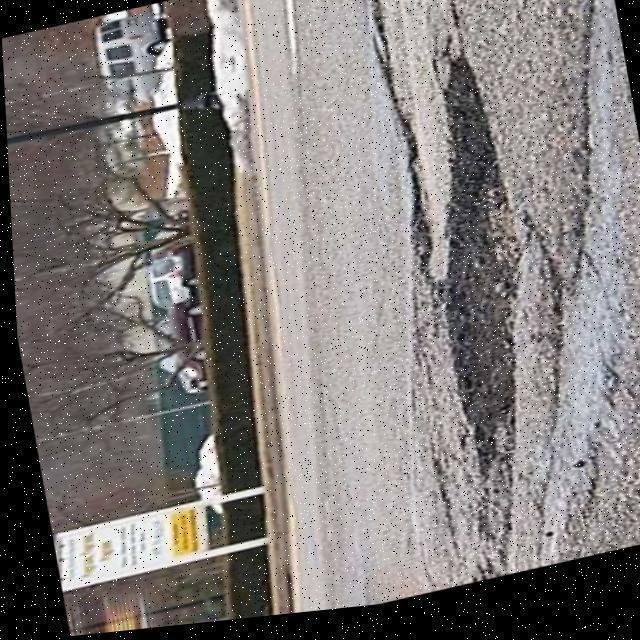Pothole: (439, 53, 518, 527), (375, 27, 431, 278)
